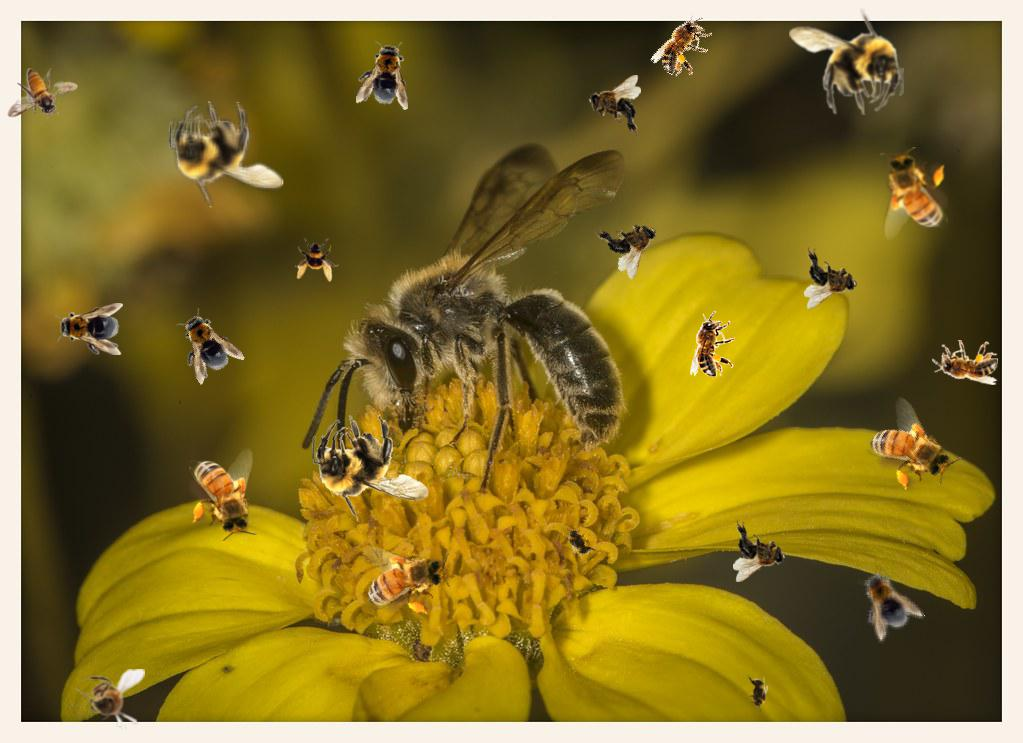Bee: (310, 411, 431, 524), (853, 392, 967, 507), (789, 8, 904, 115), (169, 101, 284, 208), (353, 540, 455, 621), (164, 301, 246, 387), (844, 559, 926, 645), (590, 200, 671, 282), (880, 147, 948, 240), (189, 448, 257, 541), (649, 4, 721, 85), (355, 37, 415, 111), (75, 669, 145, 730), (7, 68, 78, 118), (55, 303, 123, 355), (588, 75, 641, 137), (804, 247, 857, 309), (733, 520, 786, 582), (690, 311, 735, 377), (932, 340, 998, 385), (295, 238, 339, 282), (558, 519, 600, 565), (747, 673, 769, 713)
